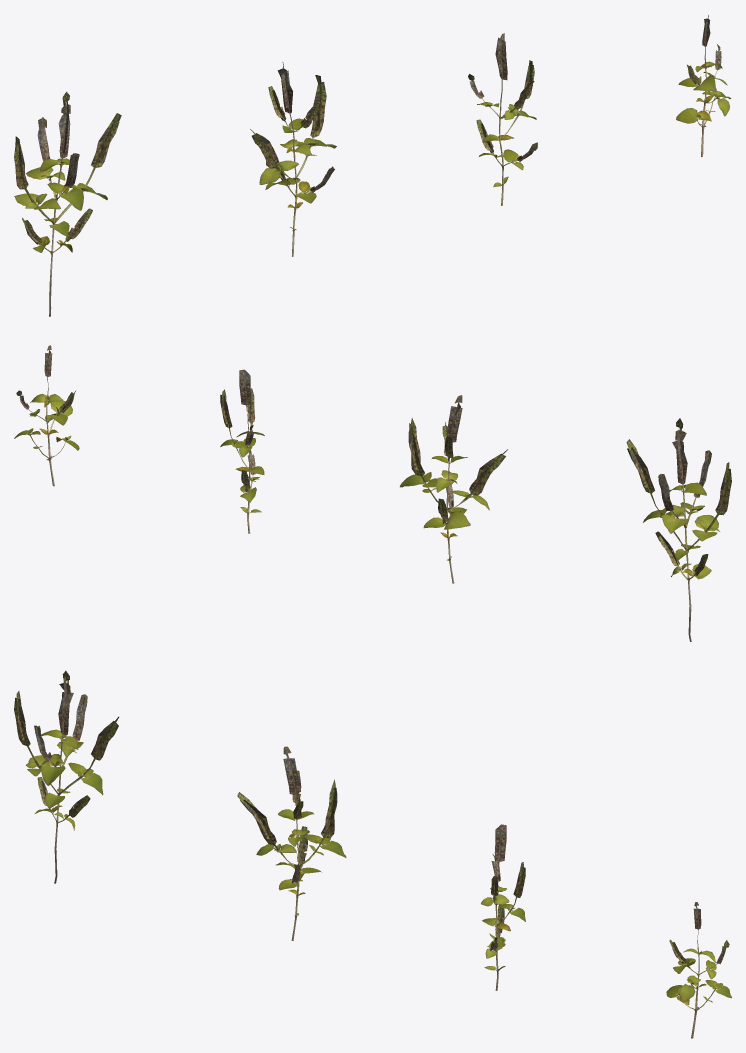
The model's file is shrub_03_1k.glb.
3 views of the same model, one above another, from view 1: azimuth 30°, elevation 25°; view 2: azimuth 150°, elevation 25°; view 3: azimuth 330°, elevation 25° (orthographic). The views are drawn at different scales.
Parts seen in each view (by area): view 1: shrub_03_a; view 2: shrub_03_a; view 3: shrub_03_a.
Boxes of the visible parts, x1,y1,x2,y2 form: shrub_03_a: [14, 15, 731, 316]; shrub_03_a: [14, 345, 731, 641]; shrub_03_a: [14, 670, 731, 1038].
Size of the model in its own units: 1.37 by 0.4028 by 0.1512.
1 material, 1 textured.
